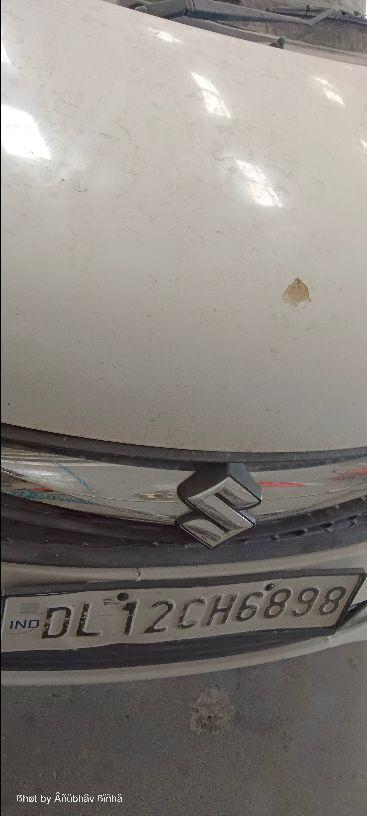license_plate: (2, 0, 365, 687), (1, 565, 365, 685)
